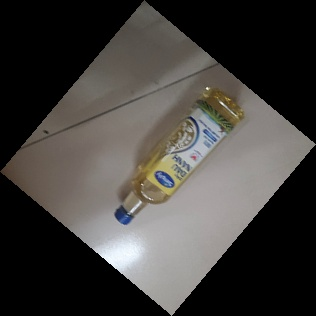Simply: (108, 85, 246, 226)
